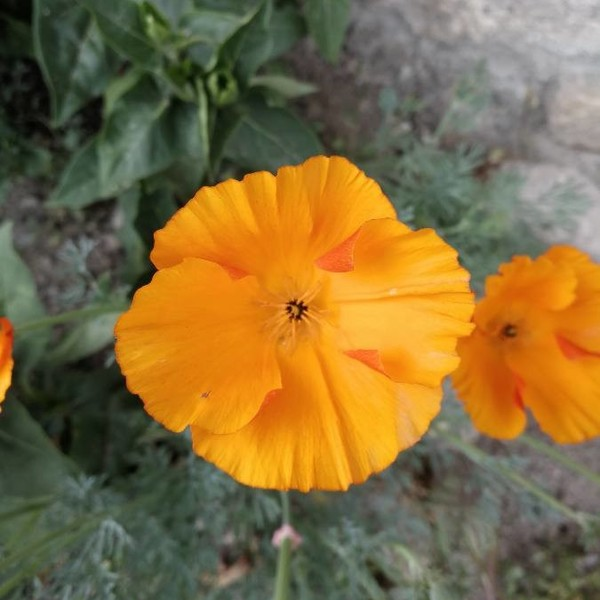obstacle: (88, 134, 485, 480)
